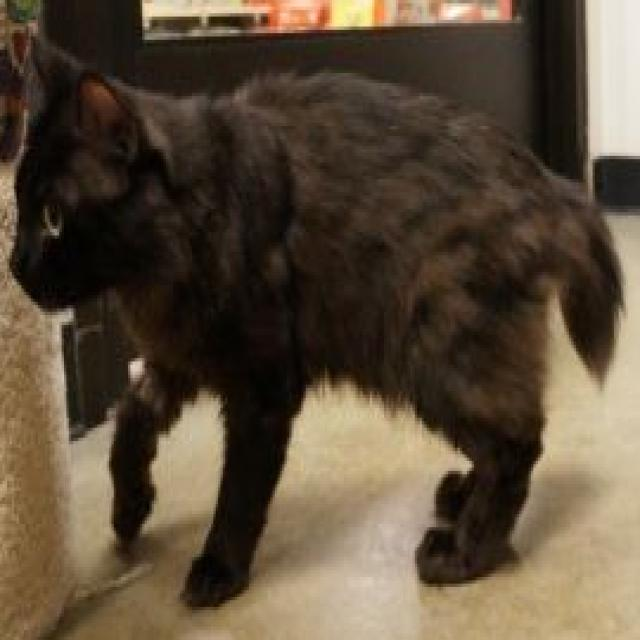American Bobtail: (7, 25, 629, 613)
